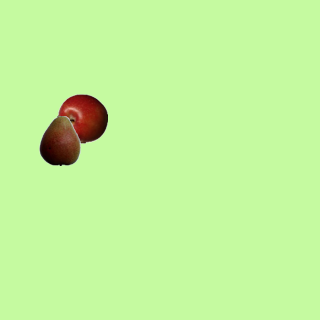Apple Braeburn: (57, 93, 107, 143)
Pear Forelle: (34, 115, 84, 165)
